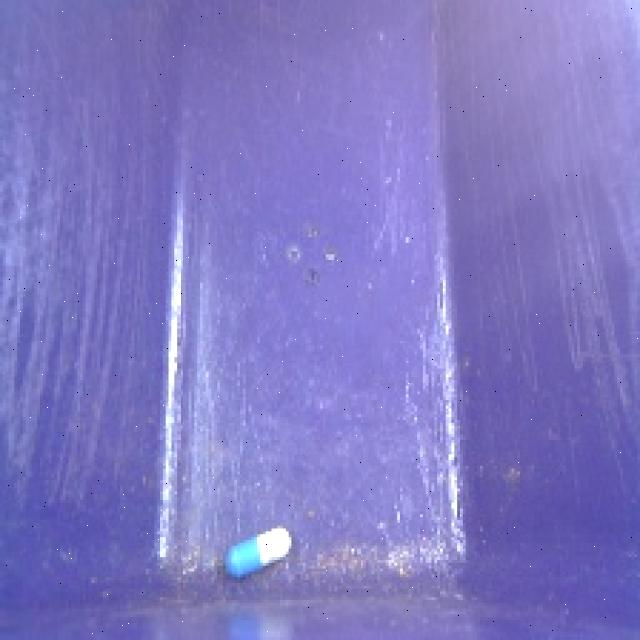small: (220, 524, 296, 586)
